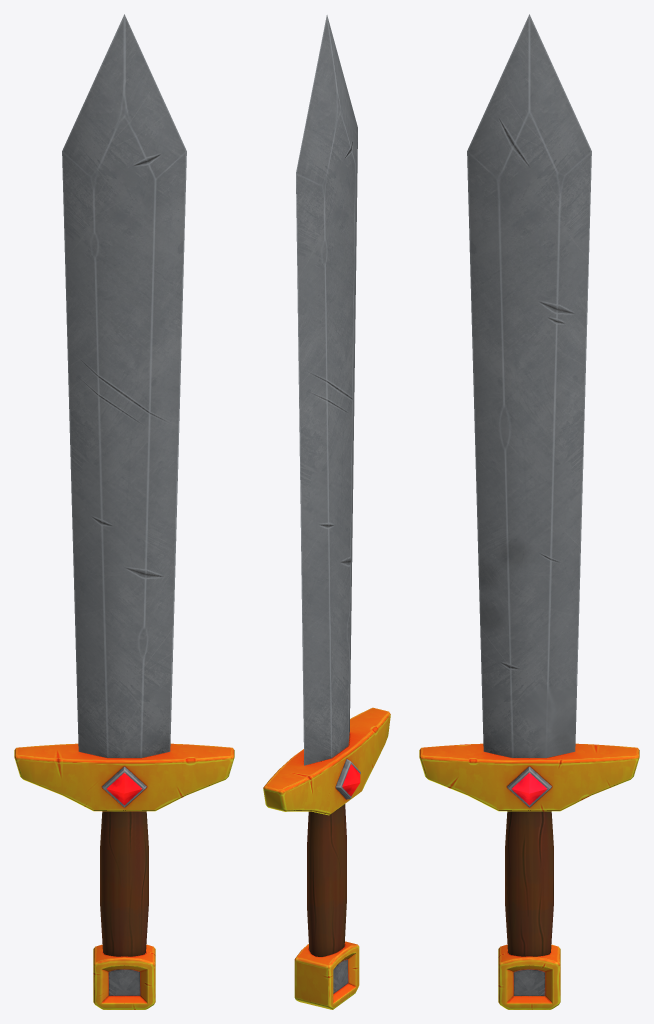
The model's file is SM_Shortsword.fbx.
The picture shows the model from 3 angles, left to right: view 1: azimuth 90°, elevation 25°; view 2: azimuth 150°, elevation 25°; view 3: azimuth 270°, elevation 25°; orthographic projection.
Visible parts, largest first — view 1: SM_Shortsword_LOD0; view 2: SM_Shortsword_LOD0; view 3: SM_Shortsword_LOD0.
Boxes of the visible parts, x1=… form: SM_Shortsword_LOD0: x1=14, y1=14, x2=234, y2=1009; SM_Shortsword_LOD0: x1=263, y1=15, x2=390, y2=1009; SM_Shortsword_LOD0: x1=419, y1=14, x2=639, y2=1009.
Size of the model in its own units: 6.57 by 18.62 by 92.23.
Materials: 1 (1 with a texture image).
